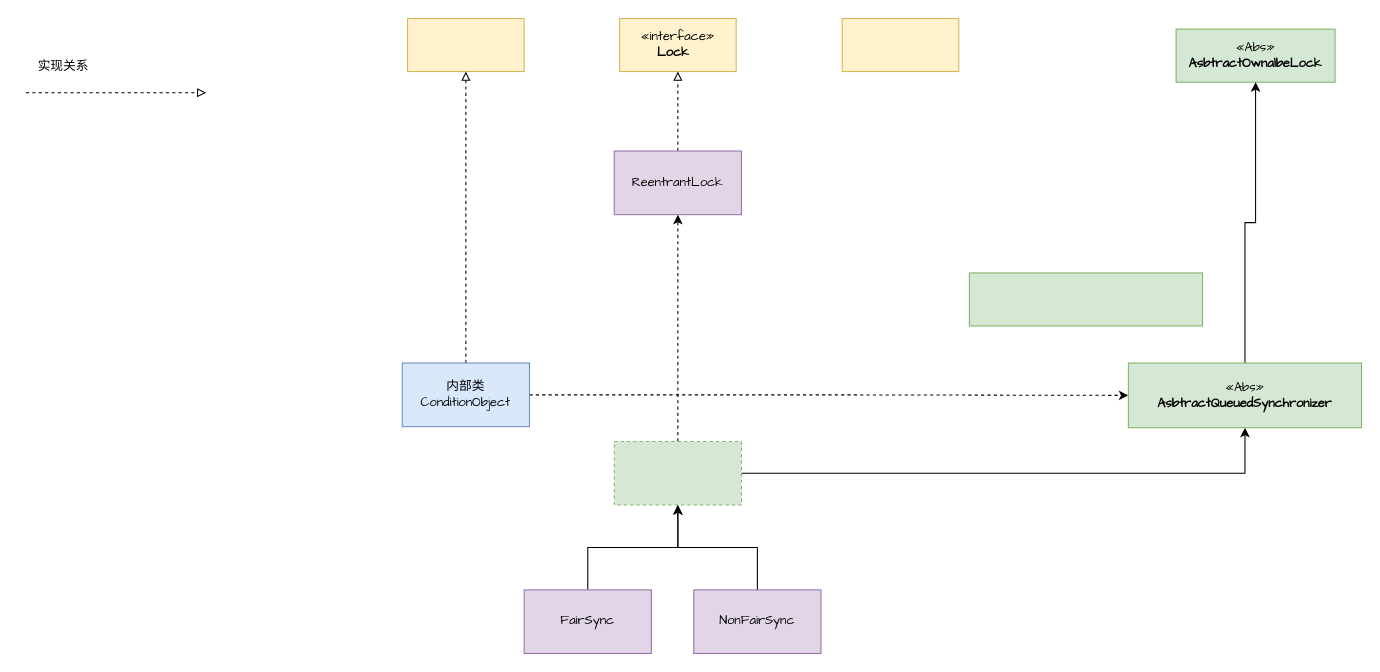
The diagram is 1380 pixels wide and 672 high, and some of its shapes have lost their labels. Each missing label, with the centre of its shape:
"«Abs» AsbtractQueuedLongSynchronizer" goes at (1085,299).
"«interface» Condition" goes at (465,44).
"«interface» ReadWriteLock" goes at (900,44).
"抽象内部类 Sync （各种内部维护的）" goes at (677,472).
